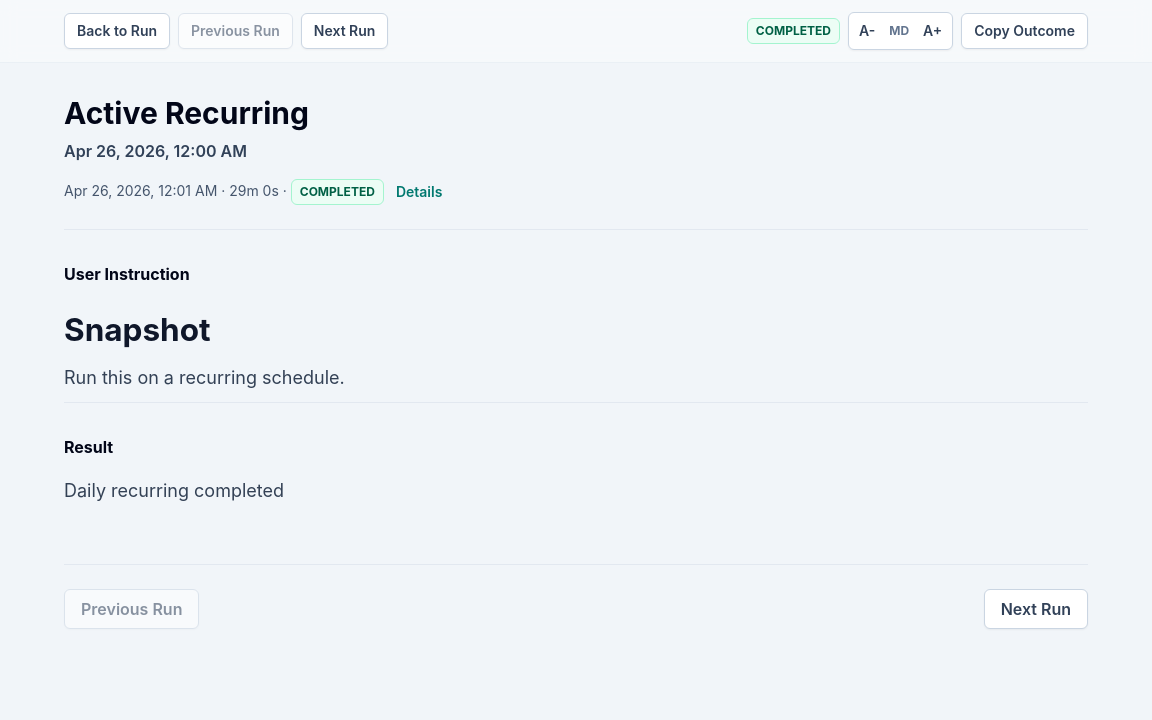
Test: ReaderView › shows metadata summary by default and toggles details on click
The width and height of the screenshot is (1152, 720).
Expected: the element with test id "metadata-summary" is shown, 64,179 -> 384,205
Click the button with test id "metadata-details-toggle".
click(419, 192)  # box 396,182 -> 442,202
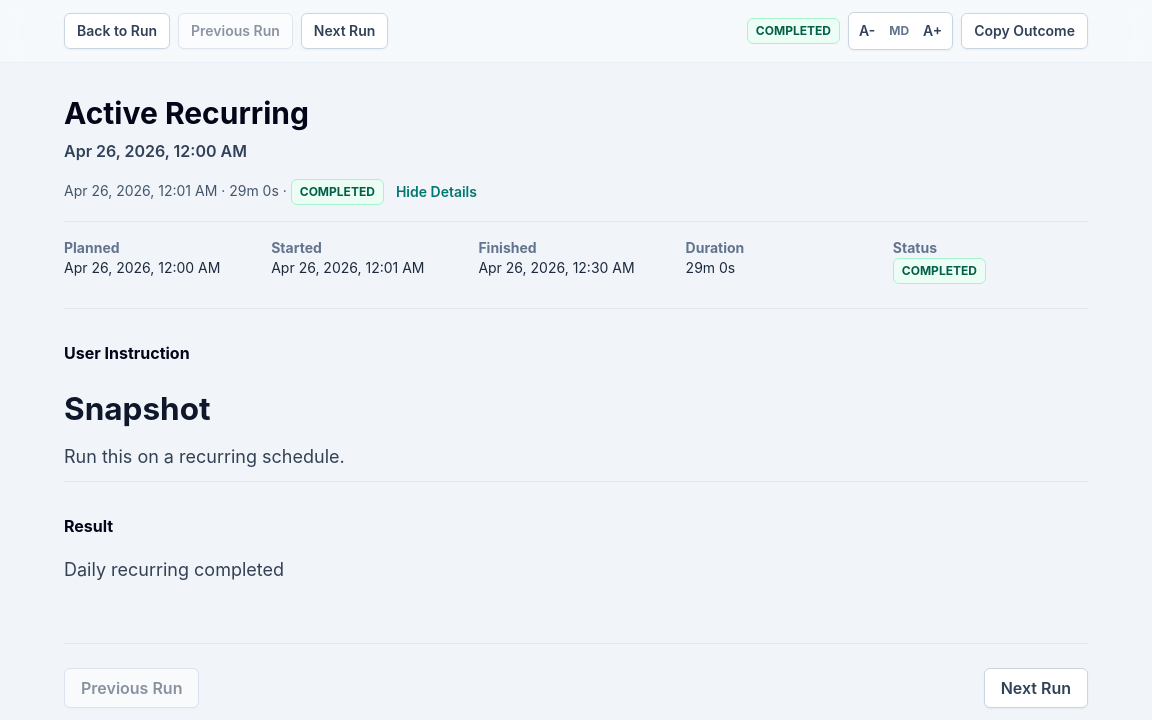
Result: the element with test id "metadata-details" is shown at 64,221 -> 1088,284
Result: the button with test id "metadata-details-toggle" reads "Hide Details" at 396,182 -> 477,202
Result: the element with test id "metadata-details" shows "Planned" at 64,239 -> 120,256
